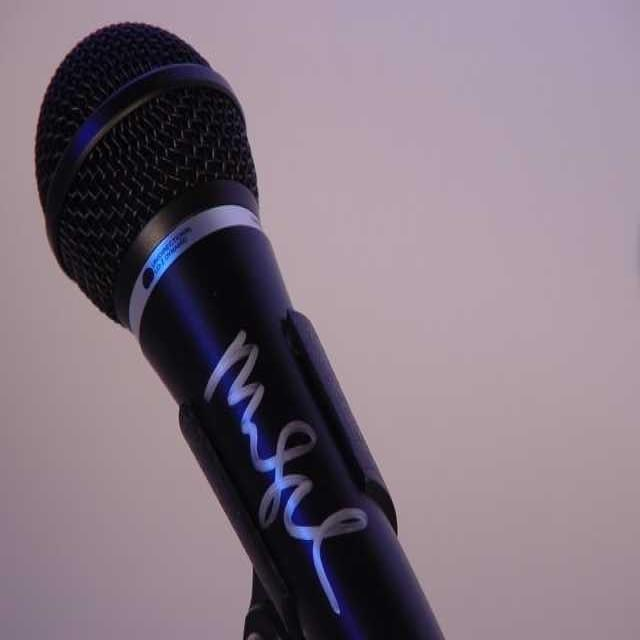microphone: (35, 22, 468, 638)
